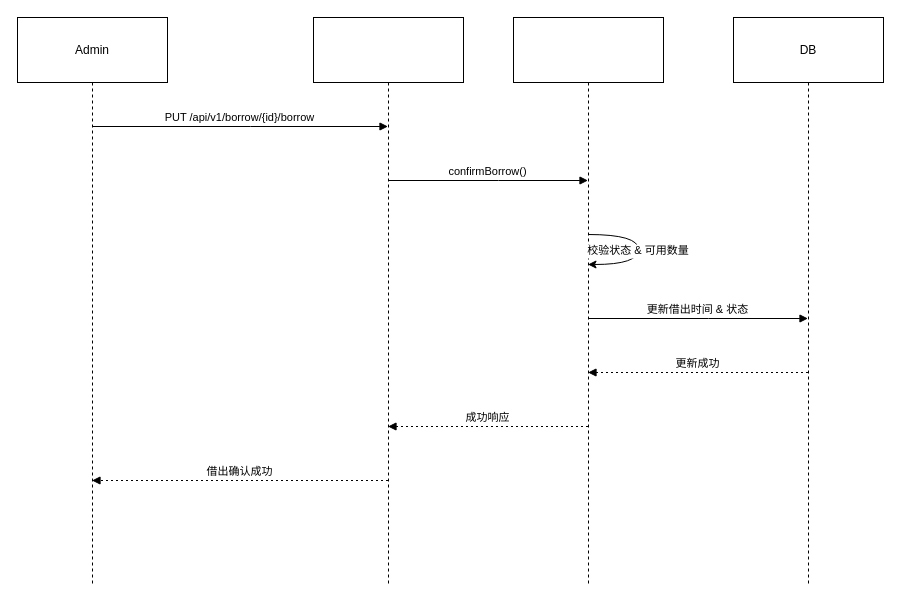
This 901x603 diagram has some shape labels left out. The box of each missing label's shape, as (x1, y1, x2, y2) in pixels:
Controller: (312, 16, 464, 586)
Service: (512, 16, 664, 586)
